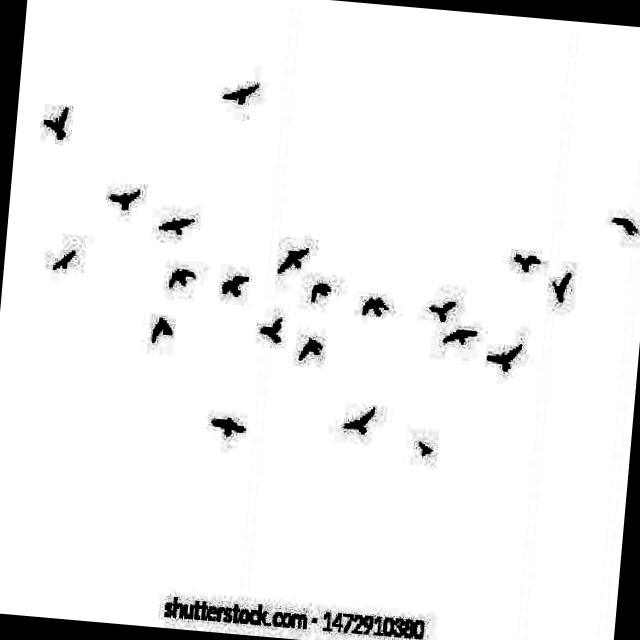bird: (32, 98, 78, 144), (290, 326, 332, 375), (212, 266, 255, 310), (102, 182, 154, 217), (45, 236, 84, 282), (338, 399, 376, 446), (214, 74, 260, 112), (202, 406, 250, 442), (274, 240, 316, 279), (542, 268, 576, 314), (485, 336, 525, 374), (602, 208, 640, 248), (158, 205, 198, 242), (437, 320, 480, 353), (162, 257, 196, 298), (254, 305, 288, 345), (144, 314, 174, 355), (358, 290, 392, 324), (424, 290, 456, 326), (509, 244, 543, 276), (304, 270, 334, 306), (404, 436, 439, 466)
